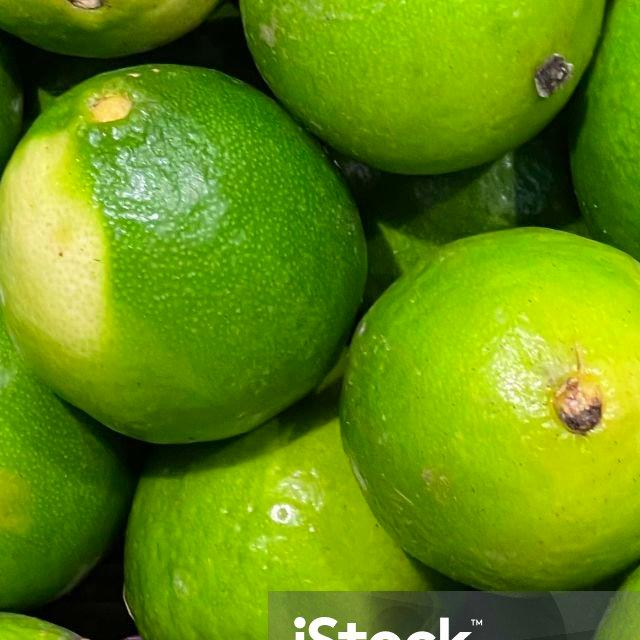lime: (0, 61, 377, 446)
